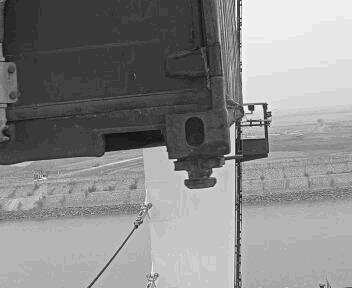twist_lock_1: (219, 123, 244, 143)
